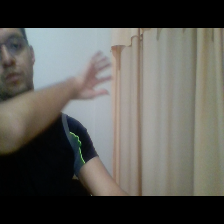left: (76, 49, 120, 108)
